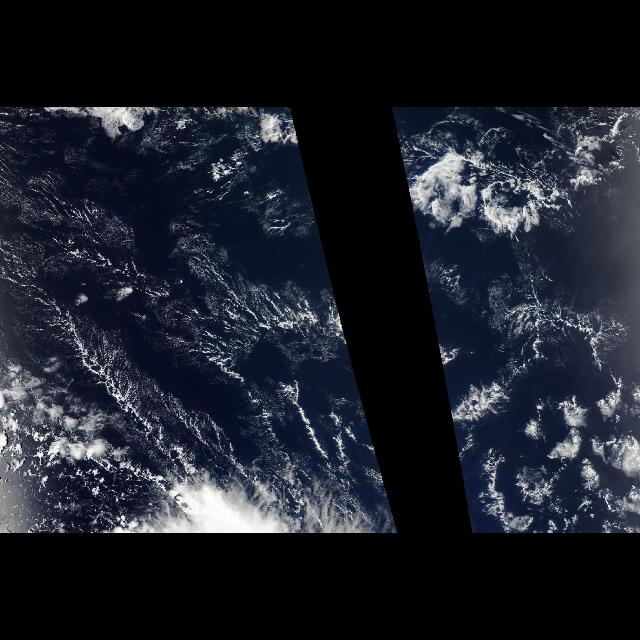Flower: (395, 110, 639, 530)
Sugar: (4, 154, 218, 378)
